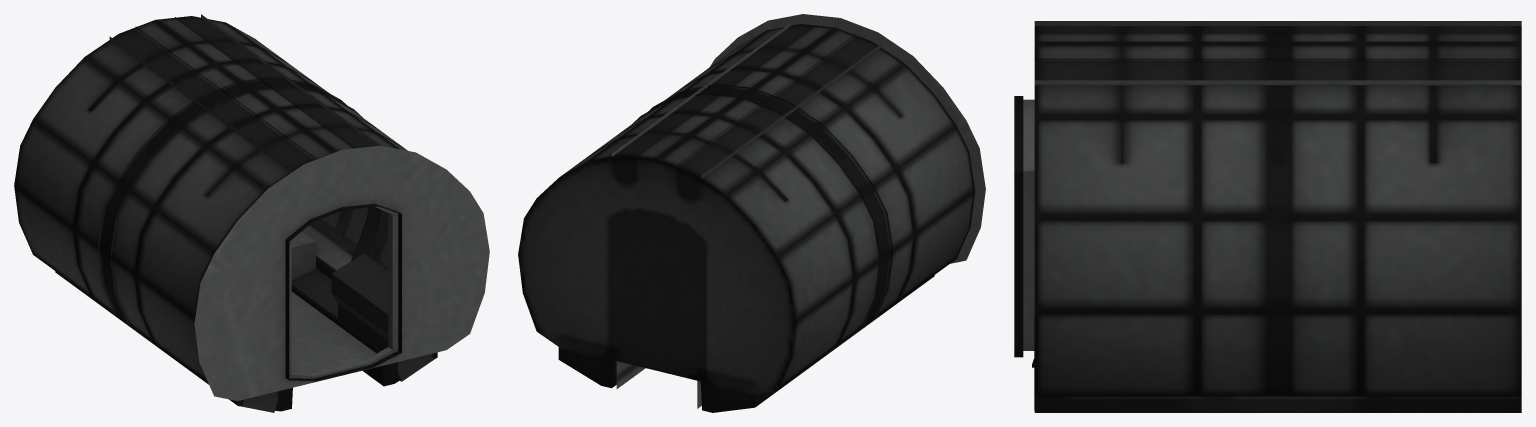
File: sftm_engine_module.fbx
The picture shows the model from 3 angles, left to right: view 1: azimuth 30°, elevation 25°; view 2: azimuth 150°, elevation 25°; view 3: azimuth 270°, elevation 25°; orthographic projection. The views are drawn at different scales.
Visible parts, largest first — view 1: engine_cabin; view 2: engine_cabin; view 3: engine_cabin.
Boxes of the visible parts, left/top/right/bottom form: engine_cabin: left=14, top=14, right=489, bottom=412; engine_cabin: left=518, top=14, right=985, bottom=412; engine_cabin: left=1014, top=21, right=1521, bottom=412.
Size of the model in its own units: 4.9 by 3.98 by 5.46.
